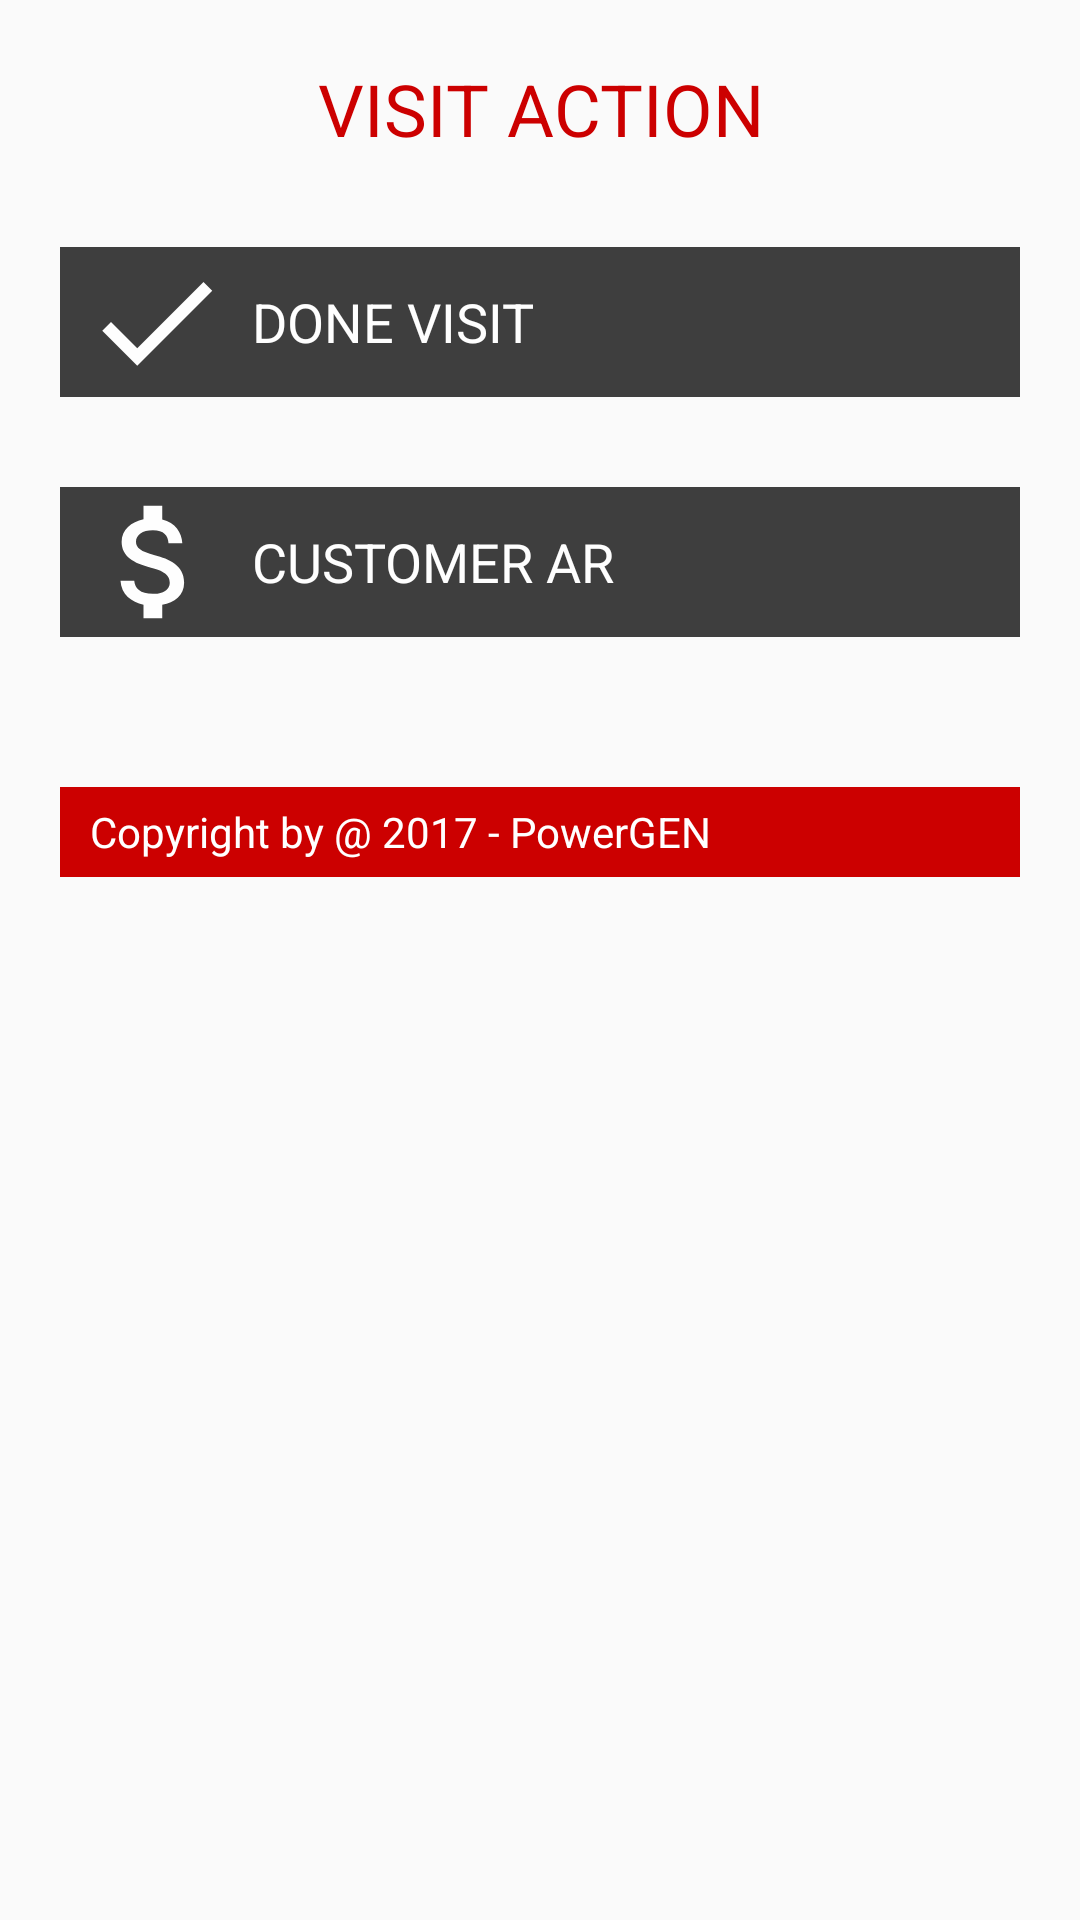

Icons on this 1080 × 1920 Android screen, each with the point to tap as (x=x, y=y):
attach money: (x=156, y=562)
